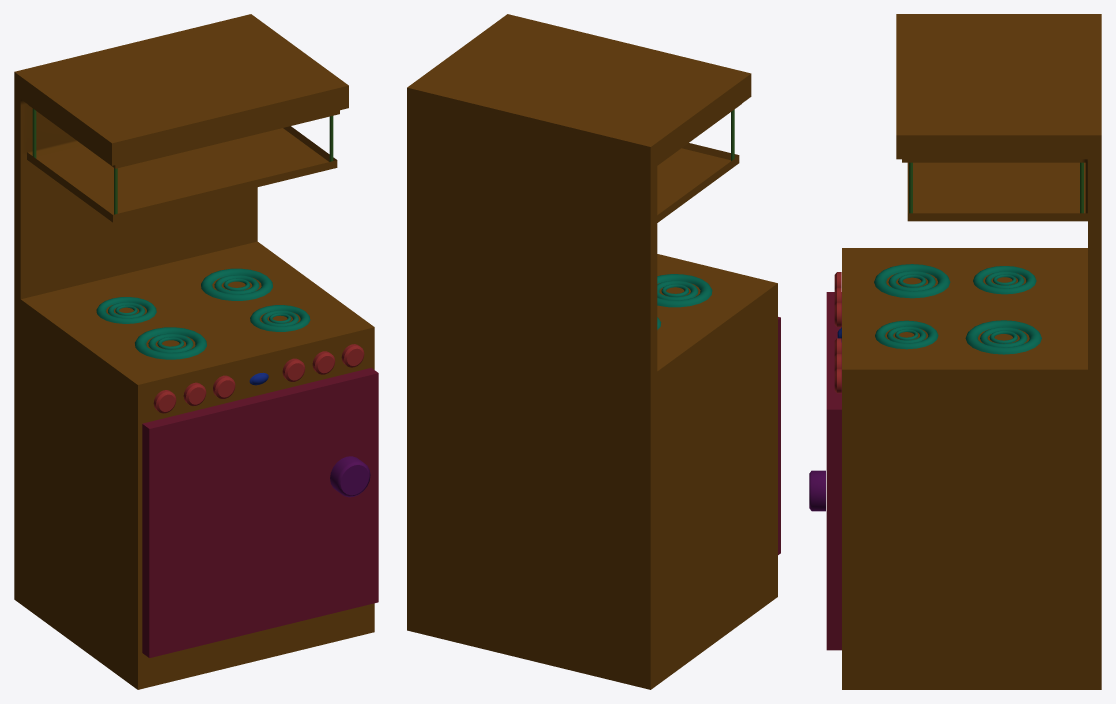
File: cooker_finished.fbx
3 views of the same model, side by side, from view 1: azimuth 30°, elevation 25°; view 2: azimuth 150°, elevation 25°; view 3: azimuth 270°, elevation 25° (orthographic). The views are drawn at different scales.
Parts seen in each view (by area): view 1: cooker_base_low, cooker_door_low, hob_low, cooker_dials_low, cooker_door_handle_low, grill_pillar_low; view 2: cooker_base_low, hob_low, cooker_door_low; view 3: cooker_base_low, hob_low, cooker_door_low, cooker_dials_low, cooker_door_handle_low.
Part boxes in pixels (x1,y1,x2,y2): cooker_base_low: [14, 14, 374, 689]; cooker_door_low: [142, 368, 378, 657]; hob_low: [96, 268, 310, 359]; cooker_dials_low: [153, 344, 364, 413]; cooker_door_handle_low: [330, 456, 370, 497]; grill_pillar_low: [32, 108, 333, 214]; cooker_base_low: [407, 14, 777, 689]; hob_low: [657, 274, 712, 329]; cooker_door_low: [778, 317, 780, 554]; cooker_base_low: [842, 14, 1101, 689]; hob_low: [874, 264, 1041, 354]; cooker_door_low: [826, 292, 841, 650]; cooker_dials_low: [834, 272, 841, 393]; cooker_door_handle_low: [809, 470, 825, 511].
Size of the model in its own units: 6.4 by 13.62 by 6.51.
